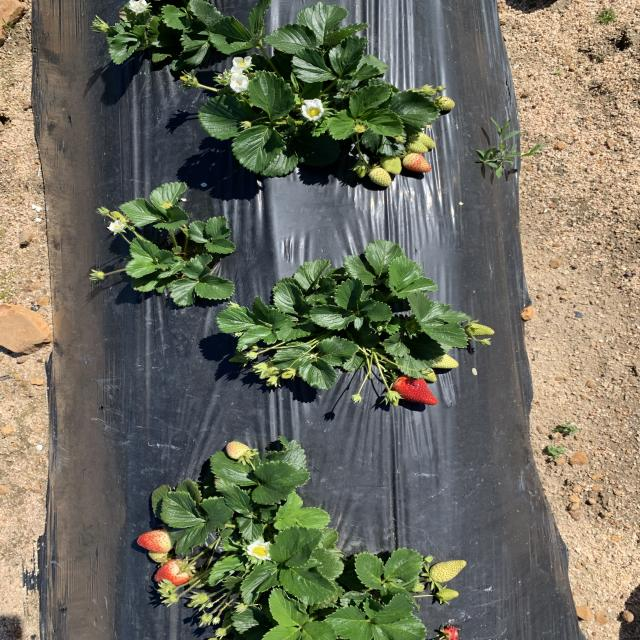unripe: (388, 372, 441, 406), (133, 528, 175, 554), (156, 559, 193, 585)
